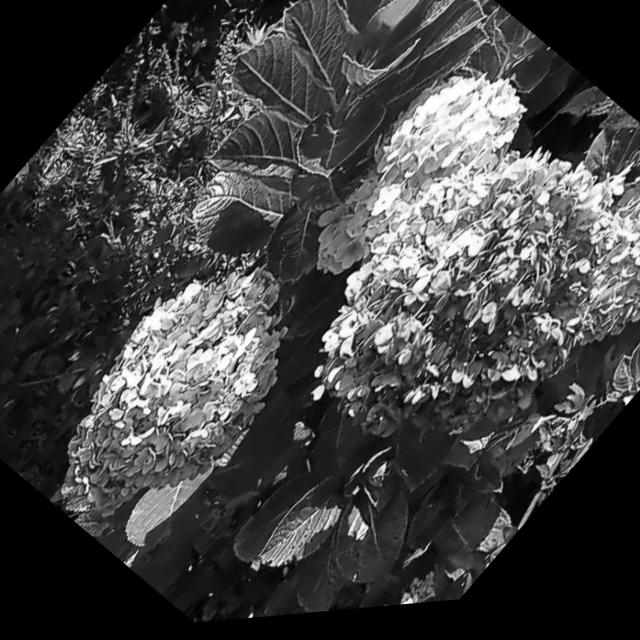Flower: (21, 225, 335, 567), (286, 39, 549, 328), (531, 161, 640, 396)
